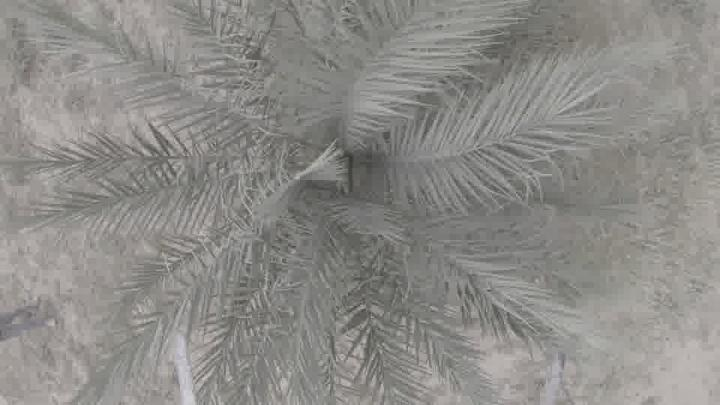Date-Palm-Crown: (138, 21, 536, 345)
